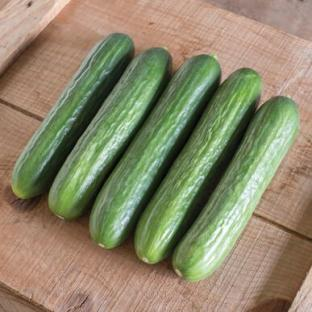Cucumber: (90, 55, 220, 248), (135, 69, 261, 263), (173, 97, 299, 280), (49, 48, 171, 219), (12, 34, 133, 199)
